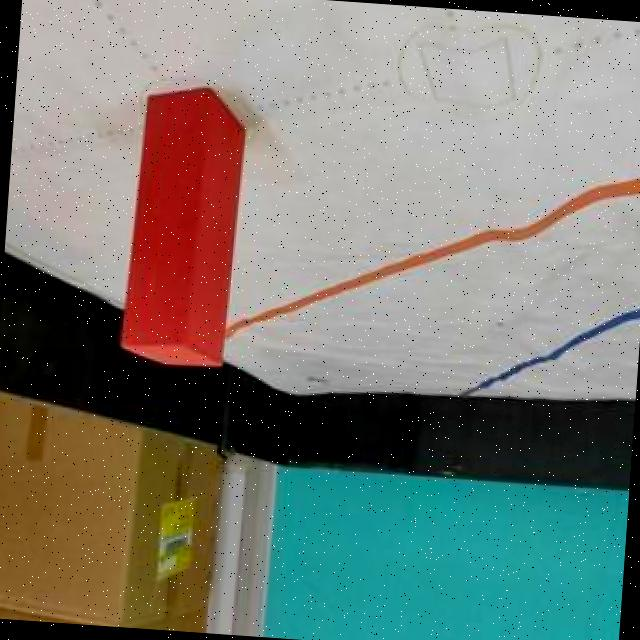redbox: (118, 80, 244, 371)
